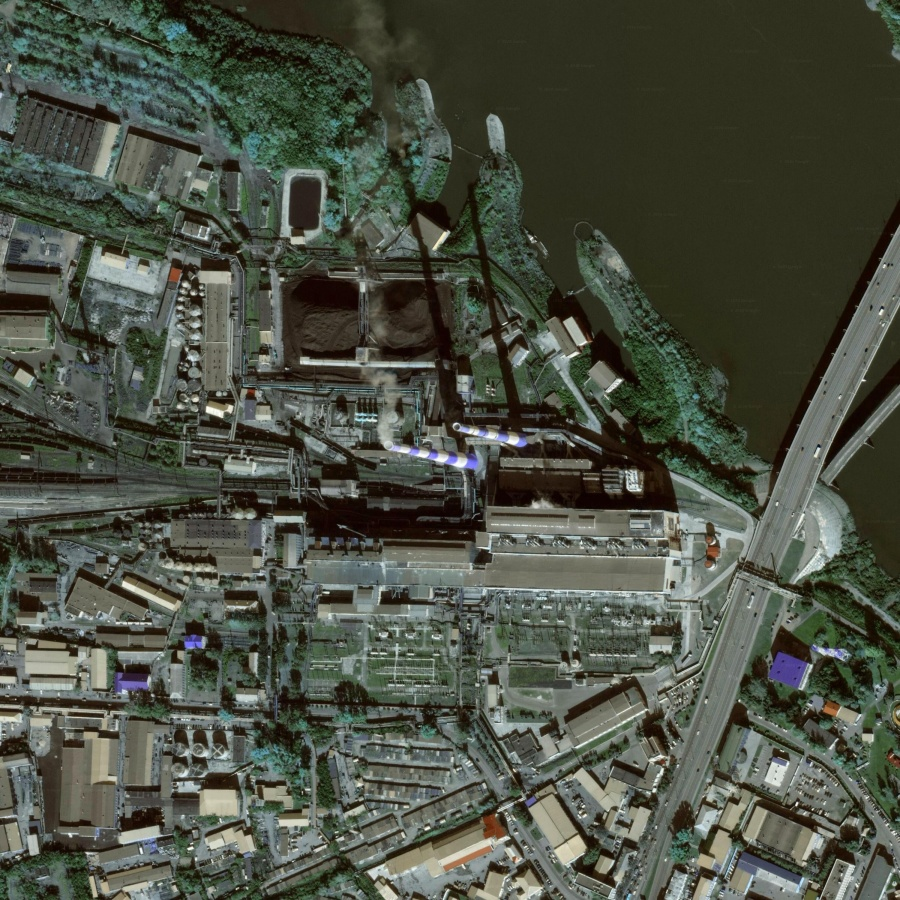PowerPlant: (262, 243, 666, 587)
